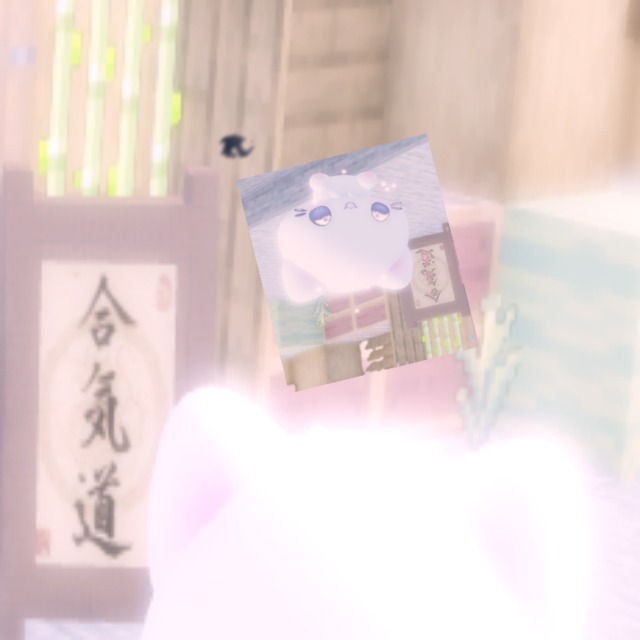urso_branco: (236, 133, 480, 394)
urso_preto: (211, 127, 261, 167), (401, 291, 433, 320)
